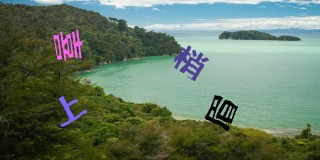上: (56, 95, 88, 127)
喜: (52, 28, 83, 61)
梢: (172, 44, 209, 81)
眉: (205, 93, 238, 132)
